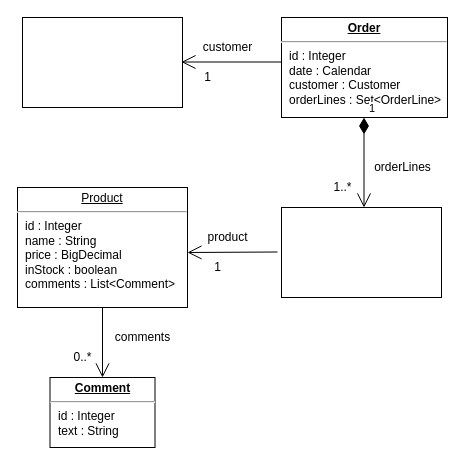
This 465x465 diagram has some shape labels left out. Here are the shapes that lost their labels. From the top down, the centre of each, then its label:
At (102,62): "Customer id : Integer name : String customer : Calendar".
At (361,252): "OrderLine product : Product amount : Integer purchasePrice : BigDecimal".
